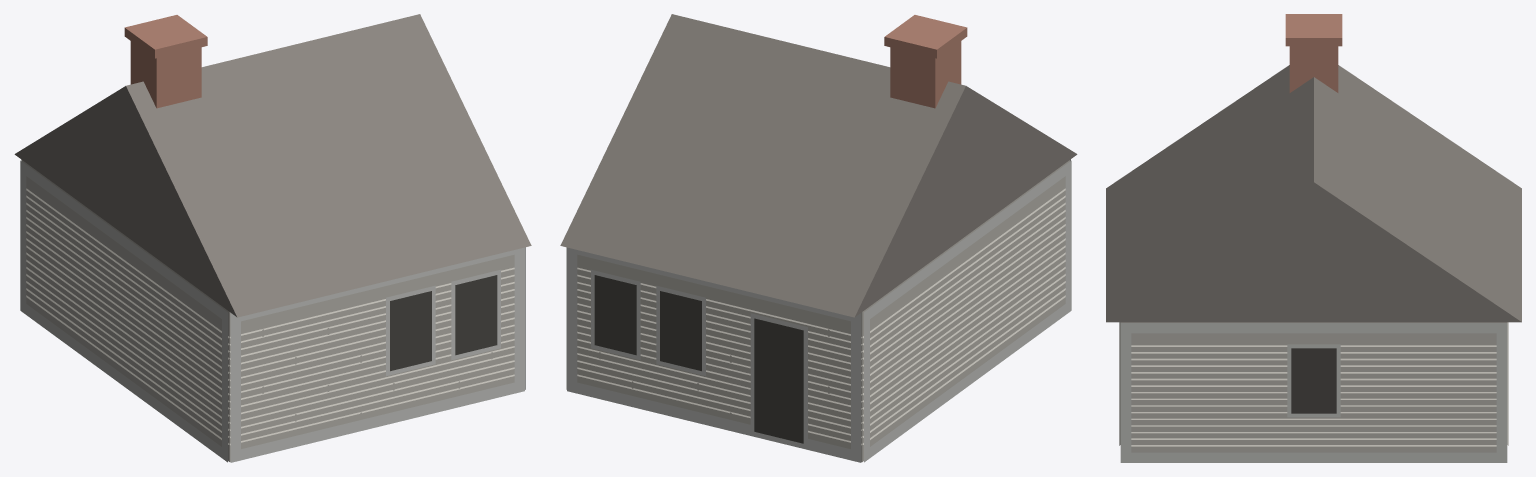
The model's file is recon_1835_west_016__inferred_1835.glb.
The picture shows the model from 3 angles, left to right: view 1: azimuth 30°, elevation 25°; view 2: azimuth 150°, elevation 25°; view 3: azimuth 270°, elevation 25°; orthographic projection. The views are drawn at different scales.
Visible parts, largest first — view 1: recon_1835_west_016__inferred_1835; view 2: recon_1835_west_016__inferred_1835; view 3: recon_1835_west_016__inferred_1835.
Part boxes in pixels (box(x1,y1,x2,y2)): recon_1835_west_016__inferred_1835: box(14, 14, 531, 462); recon_1835_west_016__inferred_1835: box(560, 14, 1077, 462); recon_1835_west_016__inferred_1835: box(1106, 14, 1521, 462).
Bounding box in the file's own units: 5.57 × 6.13 × 7.21.
